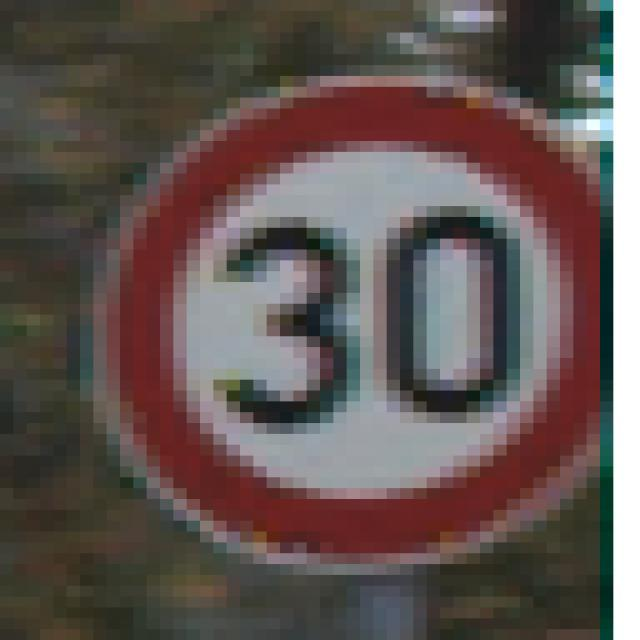Speed Limit -30-: (73, 65, 620, 575)
